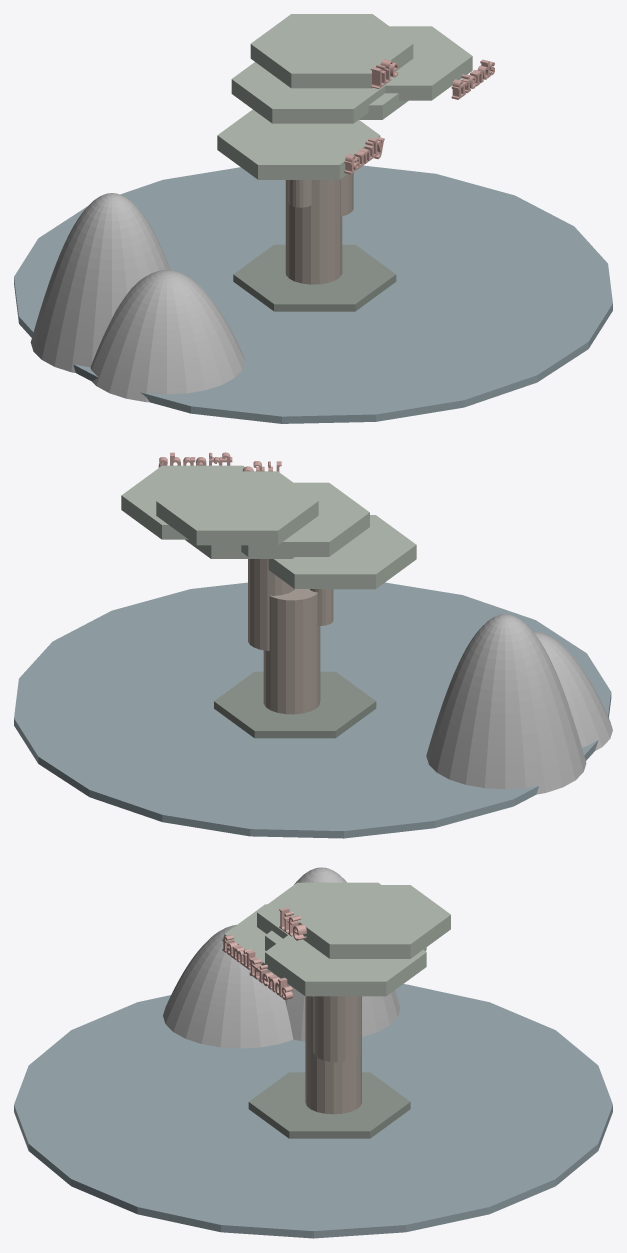
Rendered from ashley_gratitude_tree.glb.
The picture shows the model from 3 angles, top to bottom: view 1: azimuth 30°, elevation 25°; view 2: azimuth 150°, elevation 25°; view 3: azimuth 270°, elevation 25°; orthographic projection.
Parts seen in each view (by area): view 1: Mesh_Mesh_head_geo.001_lambert2SG.001; view 2: Mesh_Mesh_head_geo.001_lambert2SG.001; view 3: Mesh_Mesh_head_geo.001_lambert2SG.001.
Part boxes in pixels (<box>): Mesh_Mesh_head_geo.001_lambert2SG.001: <box>14,14,612,423</box>; Mesh_Mesh_head_geo.001_lambert2SG.001: <box>14,452,612,838</box>; Mesh_Mesh_head_geo.001_lambert2SG.001: <box>14,867,612,1238</box>.
Bounding box in the file's own units: 75 × 30.87 × 74.
